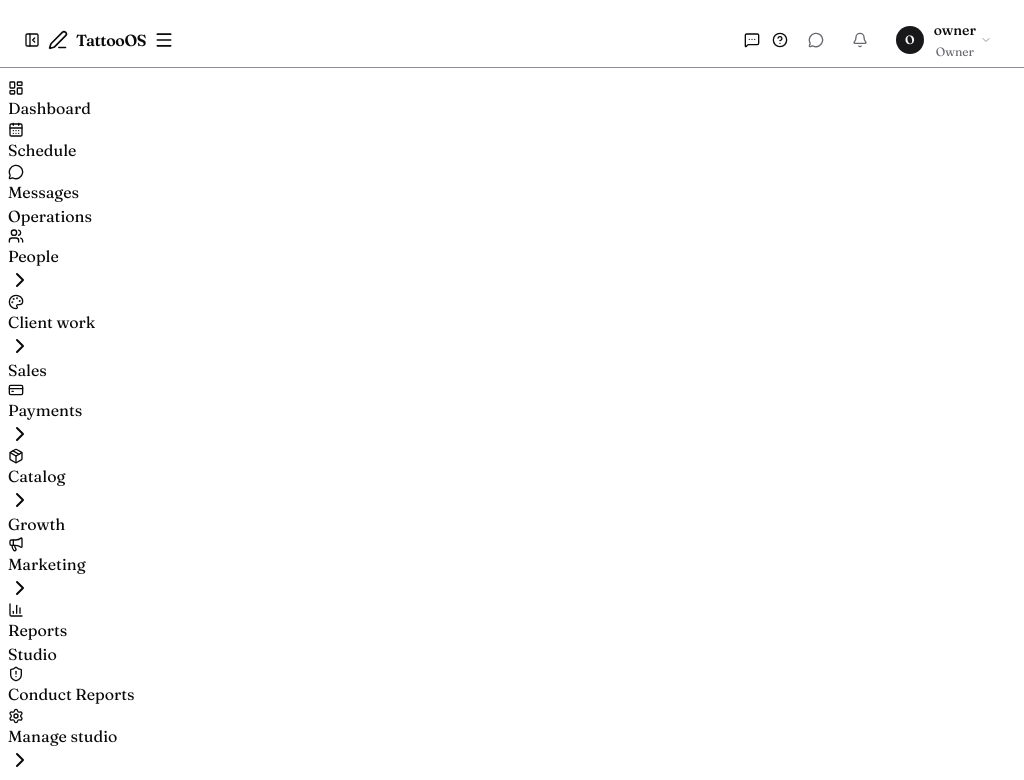
Test: OwnerLayout › the sidebar collapses to an icon rail
This screenshot has width=1024, height=780.
Click the button named "collapse sidebar" at (32, 40), box [24,32,40,48]
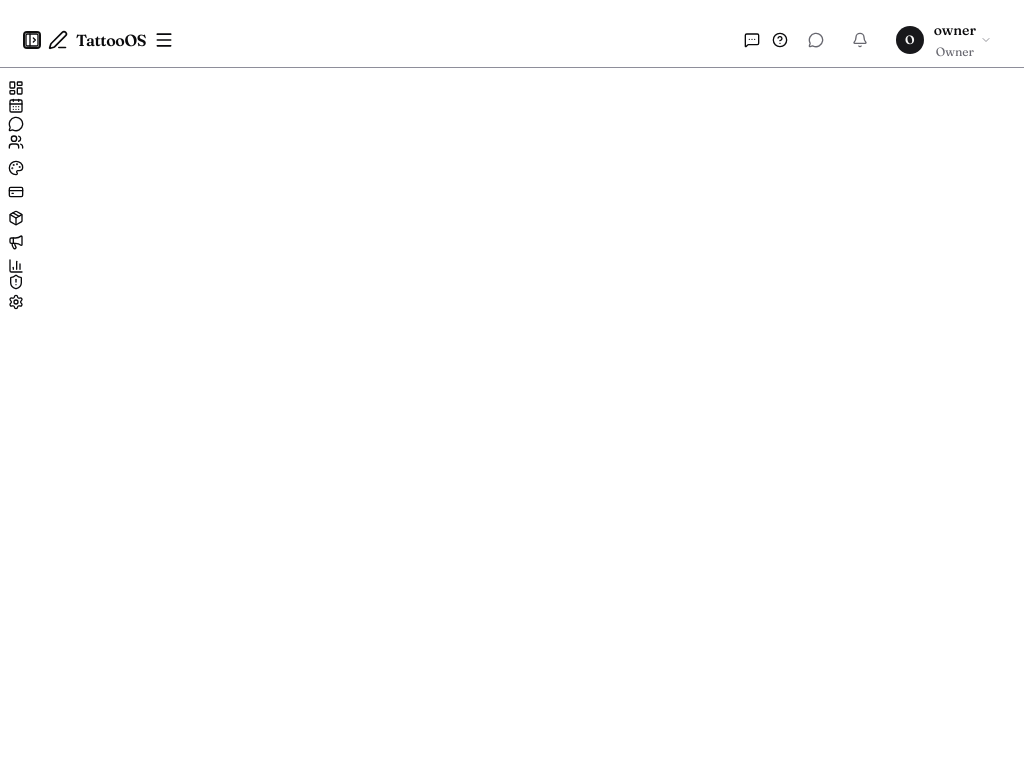
Now the text "Operations" is gone
Now the button named "expand sidebar" is shown, box [24,32,40,48]
